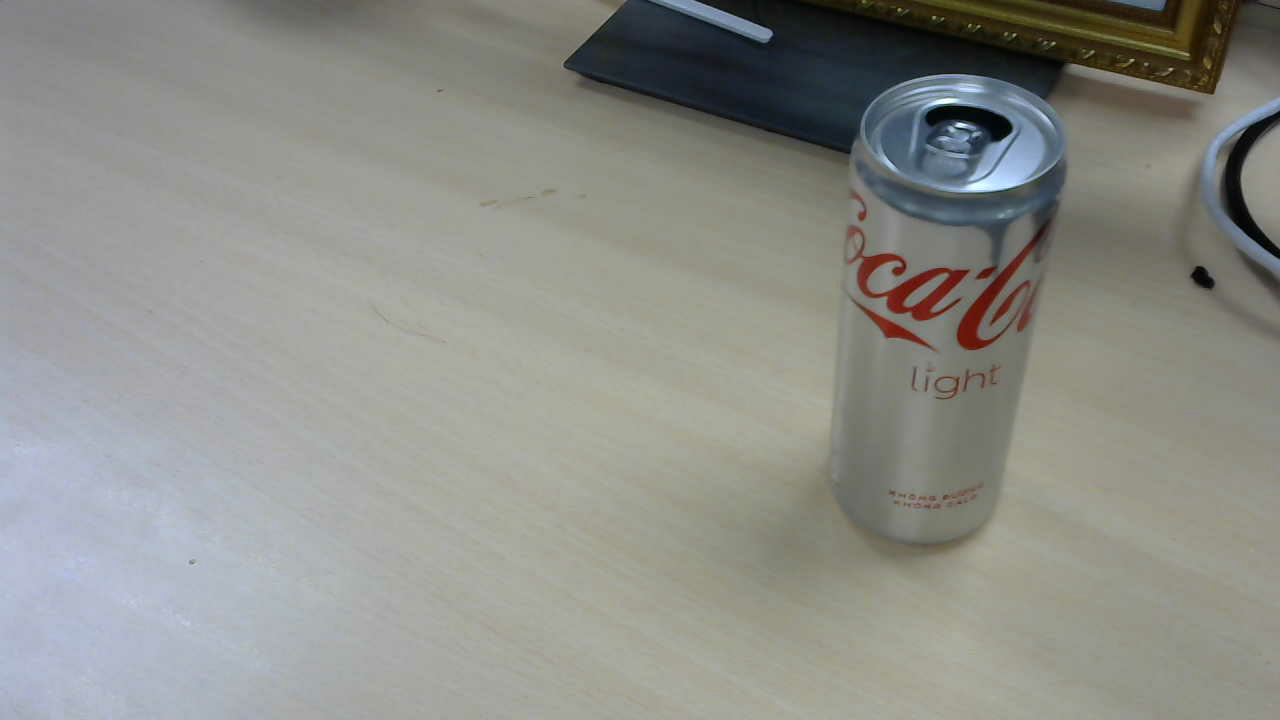Coca_Cola: (827, 77, 1073, 553)
